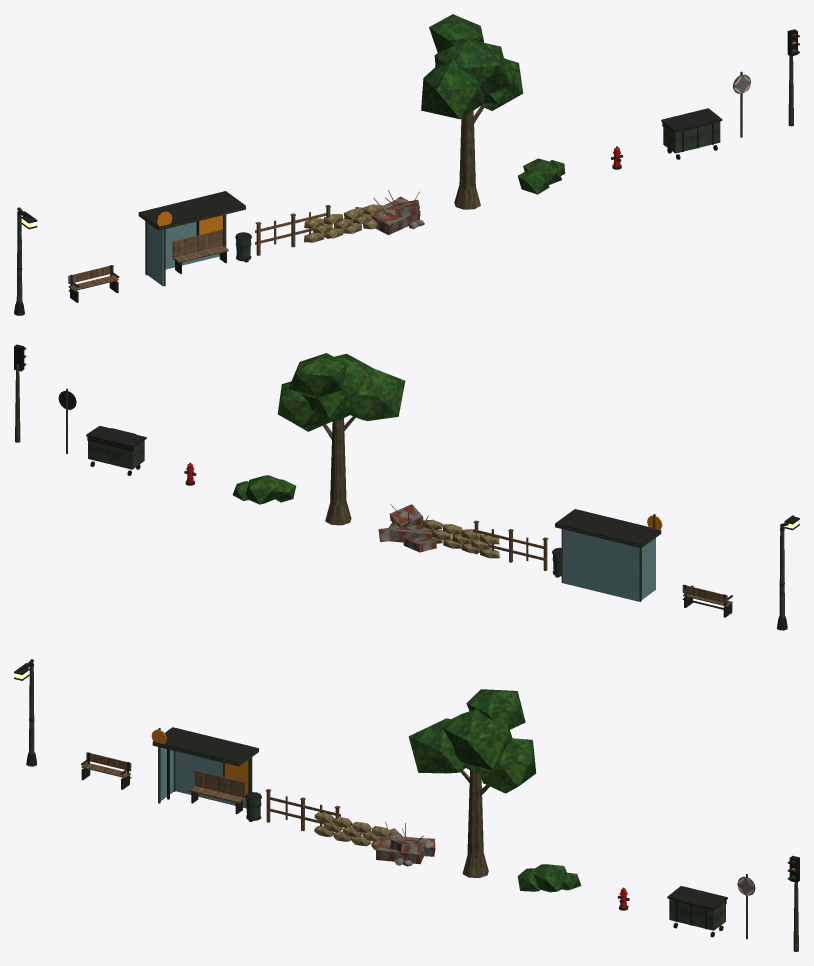
The model's file is straatmeubilair.glb.
3 views of the same model, one above another, from view 1: azimuth 30°, elevation 25°; view 2: azimuth 150°, elevation 25°; view 3: azimuth 330°, elevation 25° (orthographic).
Visible parts, largest first — view 1: Boom, Bushokje, Container, Zandzakken, Puin, Struik, Bankje, Hek, Lantaarn, Stoplicht; view 2: Boom, Bushokje, Container, Puin, Zandzakken, Struik, Hek, Bankje, Lantaarn, Stoplicht; view 3: Boom, Bushokje, Container, Puin, Zandzakken, Struik, Bankje, Lantaarn, Hek, Stoplicht.
Boxes of the visible parts, box(x1,y1,x2,y2) form: Boom: box(421, 14, 523, 209); Bushokje: box(138, 191, 245, 286); Container: box(661, 108, 722, 159); Zandzakken: box(304, 204, 382, 242); Puin: box(355, 190, 424, 234); Struik: box(518, 158, 565, 194); Bankje: box(68, 265, 119, 302); Hek: box(255, 205, 330, 255); Lantaarn: box(14, 207, 37, 315); Stoplicht: box(787, 29, 799, 126); Boom: box(277, 353, 405, 525); Bushokje: box(555, 509, 662, 601); Container: box(86, 426, 146, 475); Puin: box(378, 504, 437, 552); Zandzakken: box(423, 519, 499, 558); Struik: box(232, 475, 296, 504); Hek: box(473, 520, 548, 570); Bankje: box(682, 584, 732, 617); Lantaarn: box(776, 515, 799, 630); Stoplicht: box(14, 344, 26, 442); Boom: box(408, 689, 536, 877); Bushokje: box(151, 727, 258, 814); Container: box(667, 886, 727, 937); Puin: box(376, 822, 435, 866); Zandzakken: box(314, 812, 390, 850); Struik: box(517, 864, 581, 892); Bankje: box(81, 752, 131, 789); Lantaarn: box(14, 659, 36, 766); Hek: box(265, 789, 340, 832); Stoplicht: box(787, 855, 799, 951).
Bounding box in the file's own units: 31.35 × 6.73 × 3.75.
15 materials, 7 textured.
